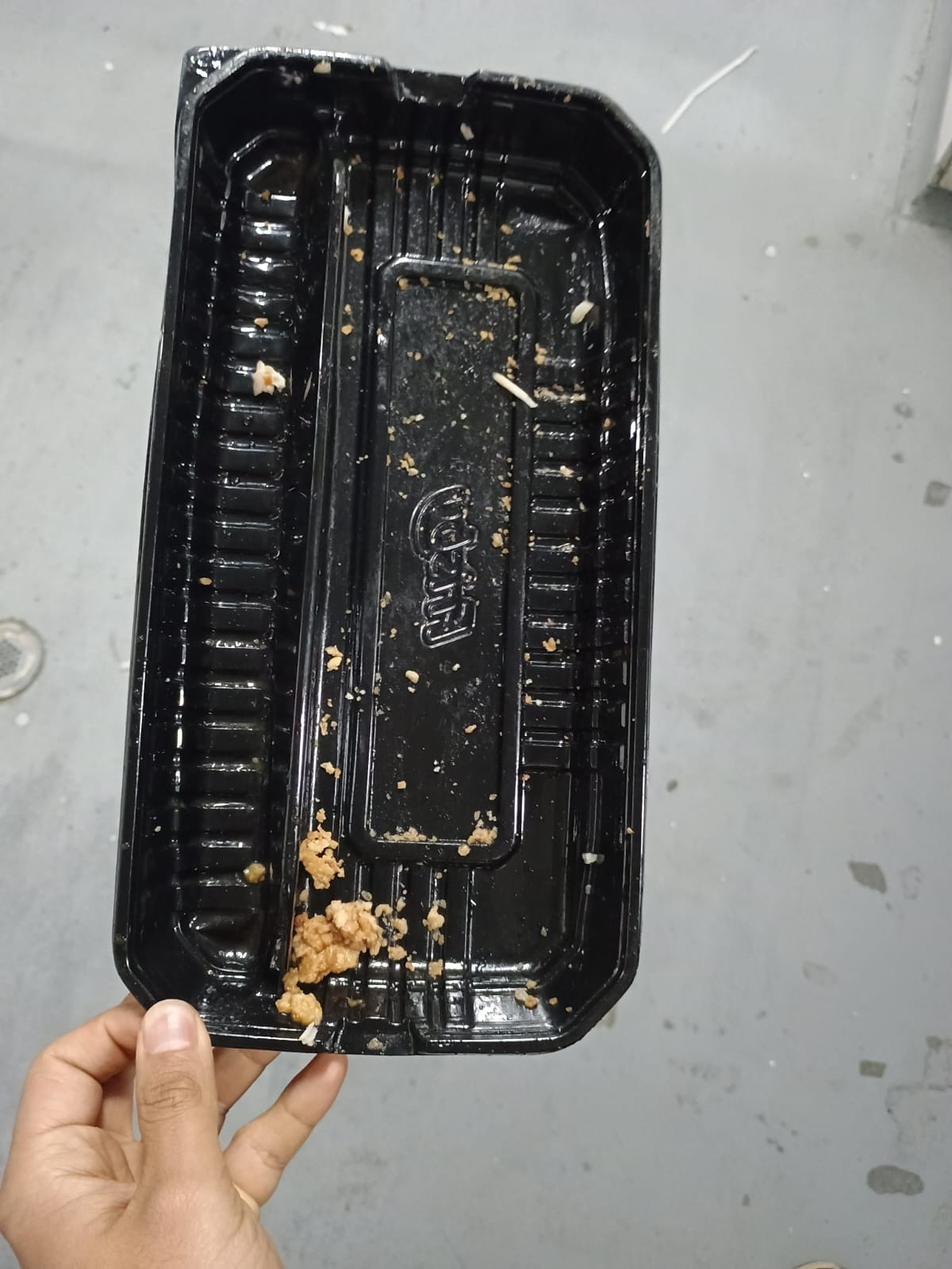Ordinario: (112, 44, 666, 1055)
